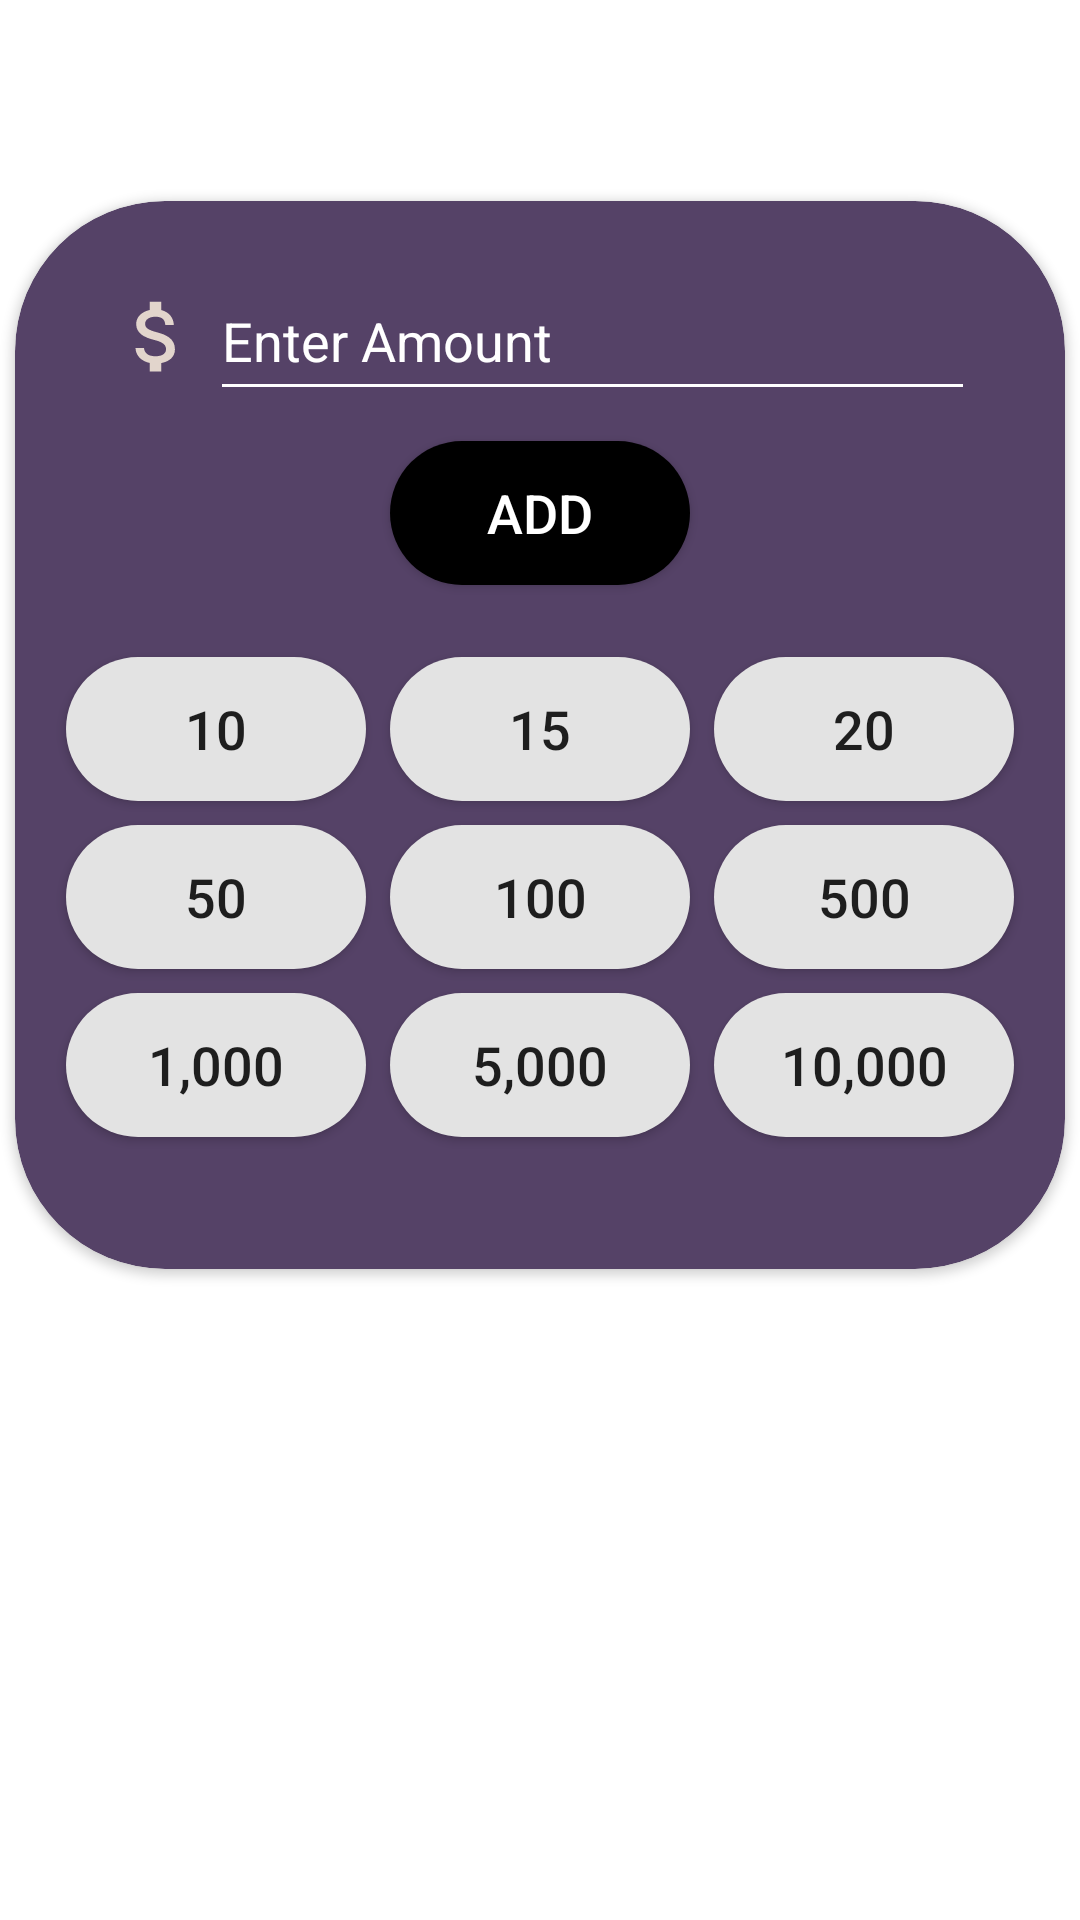

Locate icon controls on the screen. Image size 1080w x 1920h, boxes as bbox=(x1, y1, x2, y2).
attach money: bbox=(135, 301, 175, 372)
